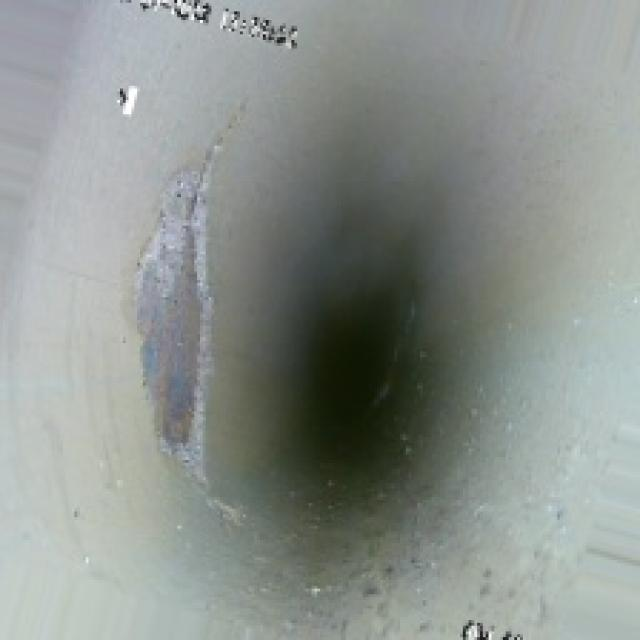pipe_surface_damage: (123, 149, 243, 520)
